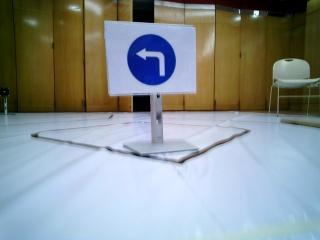left: (108, 20, 192, 91)
